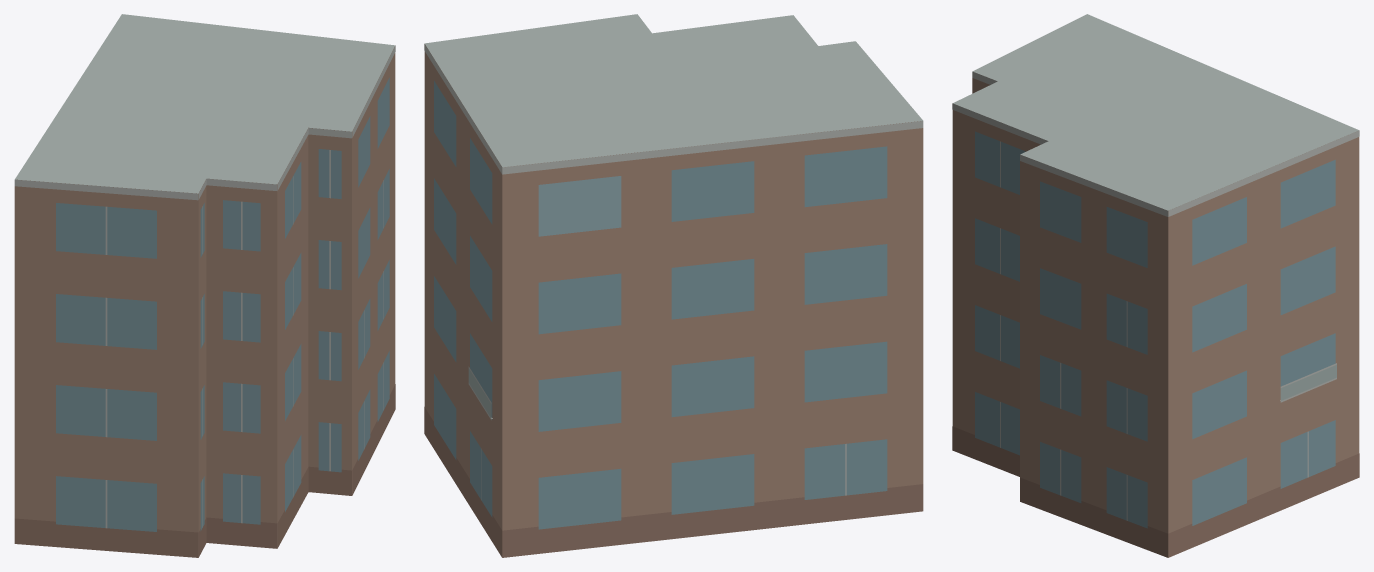
The model's file is survey-upis-32956839.glb.
The picture shows the model from 3 angles, left to right: view 1: azimuth 30°, elevation 25°; view 2: azimuth 150°, elevation 25°; view 3: azimuth 270°, elevation 25°; orthographic projection. The views are drawn at different scales.
Visible parts, largest first — view 1: survey-upis-32956839.tmp; view 2: survey-upis-32956839.tmp; view 3: survey-upis-32956839.tmp.
Boxes of the visible parts, left/top/right/bottom form: survey-upis-32956839.tmp: left=14, top=14, right=395, bottom=557; survey-upis-32956839.tmp: left=424, top=14, right=923, bottom=557; survey-upis-32956839.tmp: left=952, top=14, right=1359, bottom=557.
Bounding box in the file's own units: 16.05 × 13.2 × 14.03.
